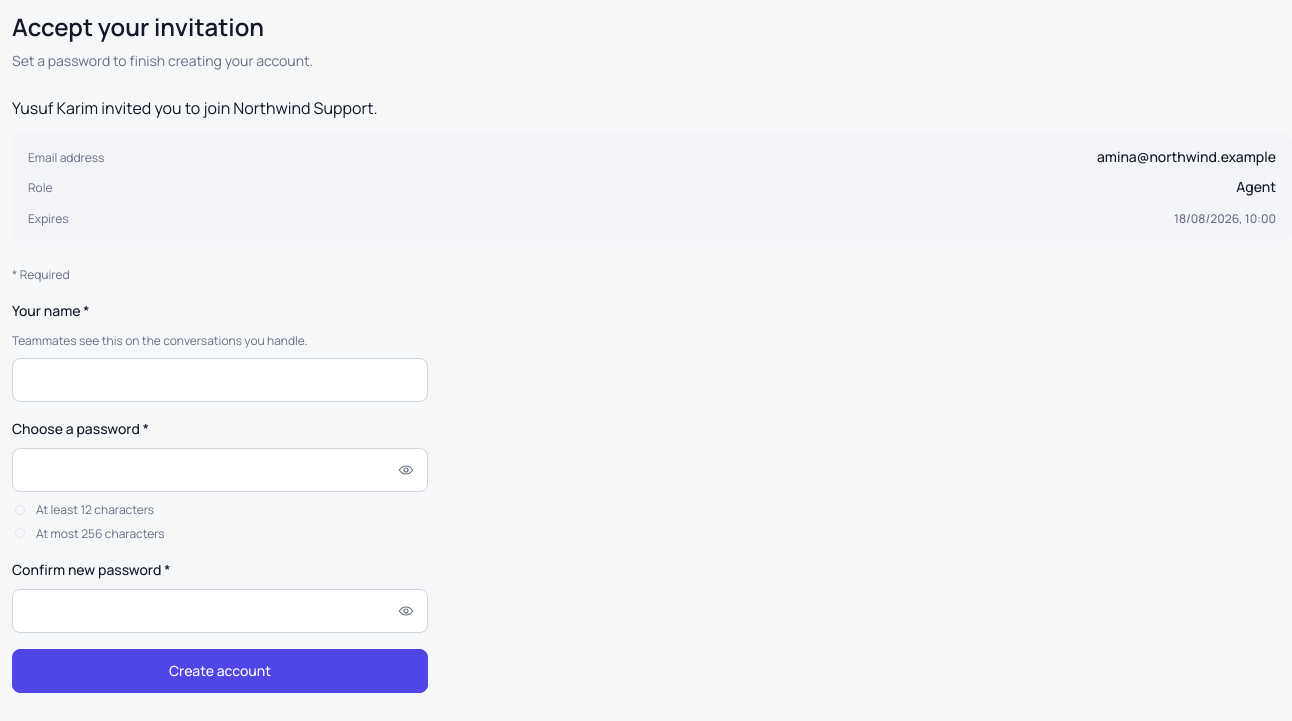
Scenario: InviteAcceptSection › swaps the form for the dead-link card when the invitation dies before submit
Check: the button "Create account" is shown, box [12,649,428,693]
Type "Amina Haddad" into the field labelled "Your name *".
click(220, 380); type("Amina Haddad")  # box [12,358,428,402]
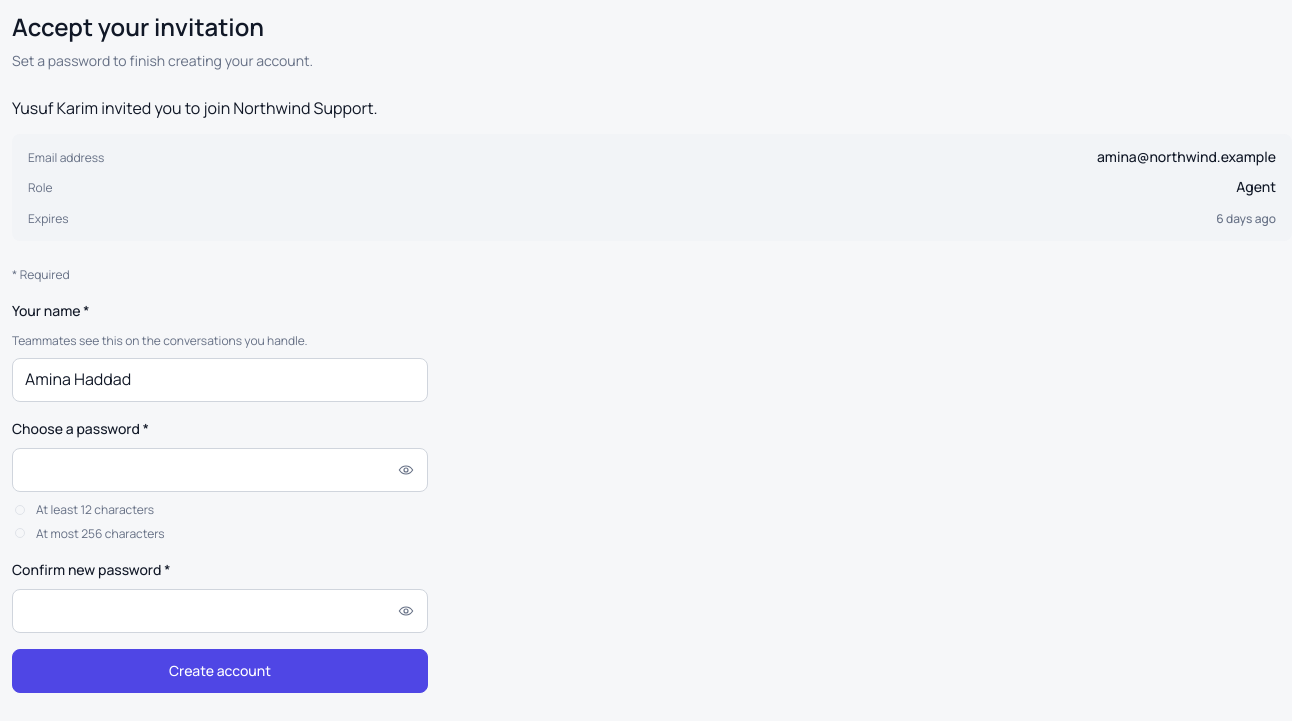
Type "a-perfectly-fine-passphrase" into the password field labelled "Choose a password *".
click(220, 470); type("a-perfectly-fine-passphrase")  # box [12,448,428,492]
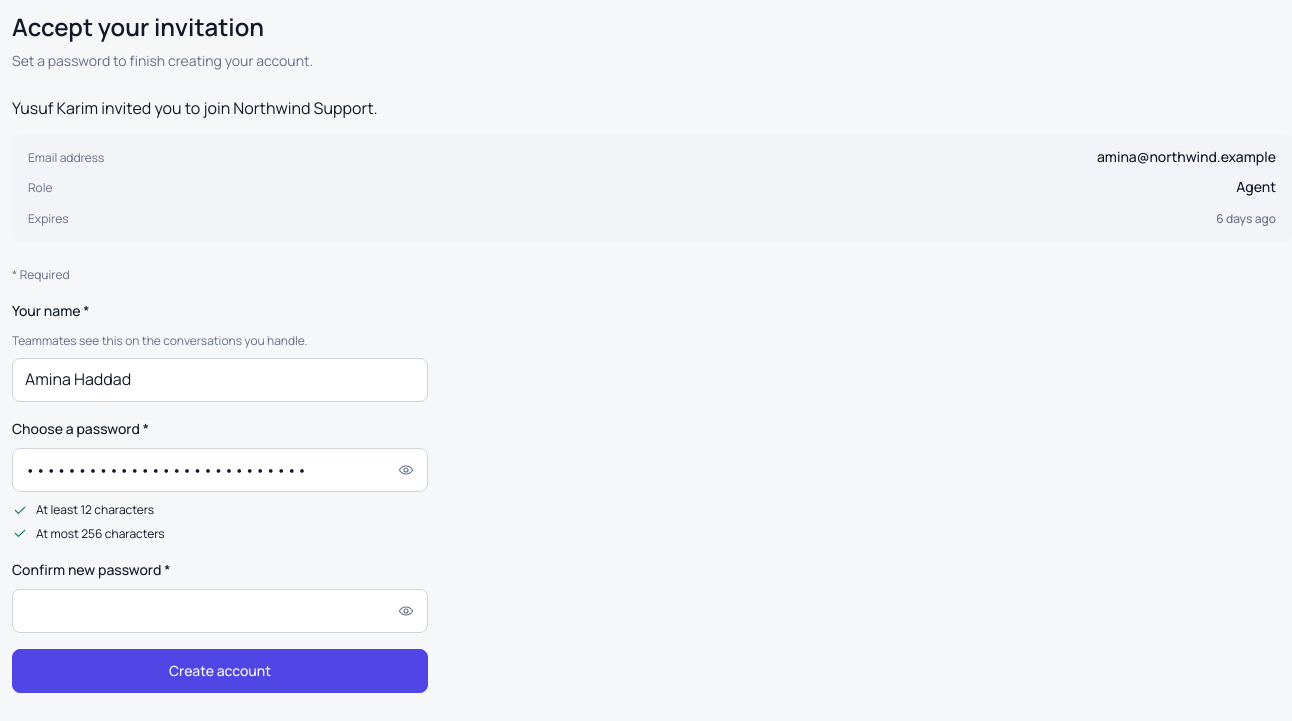
Type "a-perfectly-fine-passphrase" into the password field labelled "Confirm new password *".
click(220, 611); type("a-perfectly-fine-passphrase")  # box [12,589,428,633]
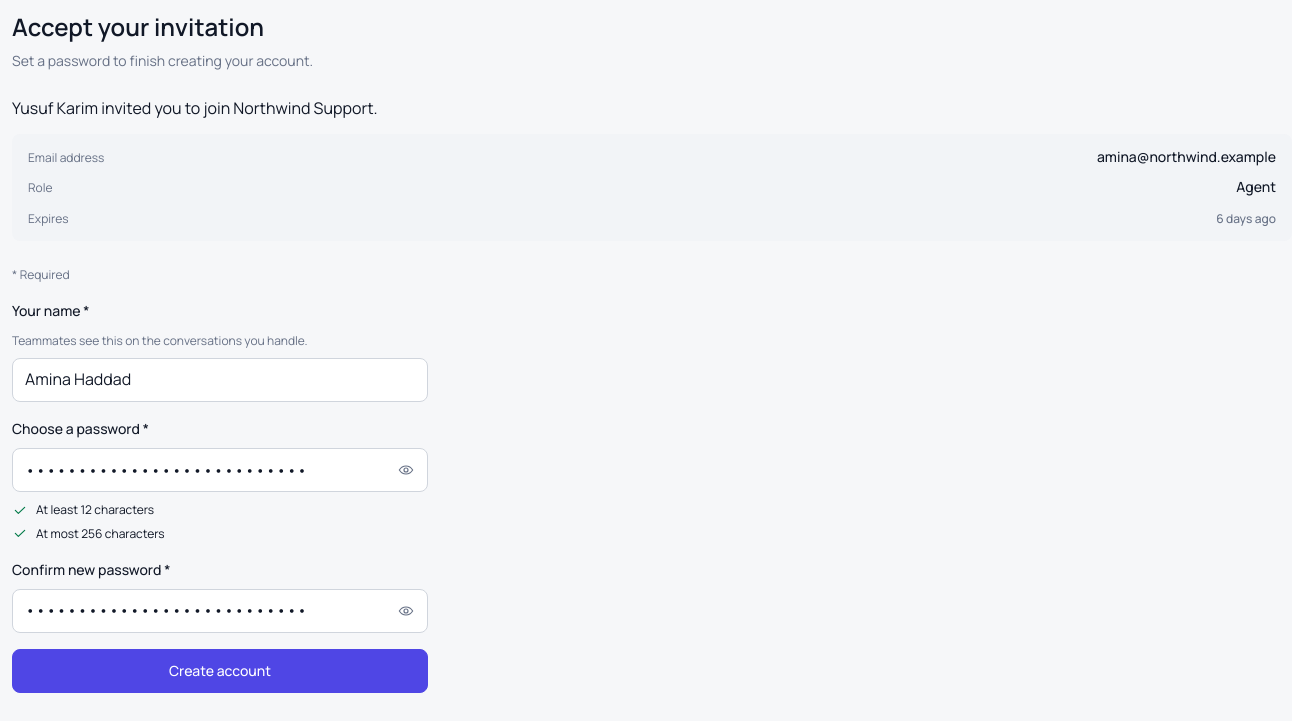
Click the button "Create account".
click(220, 671)  # box [12,649,428,693]
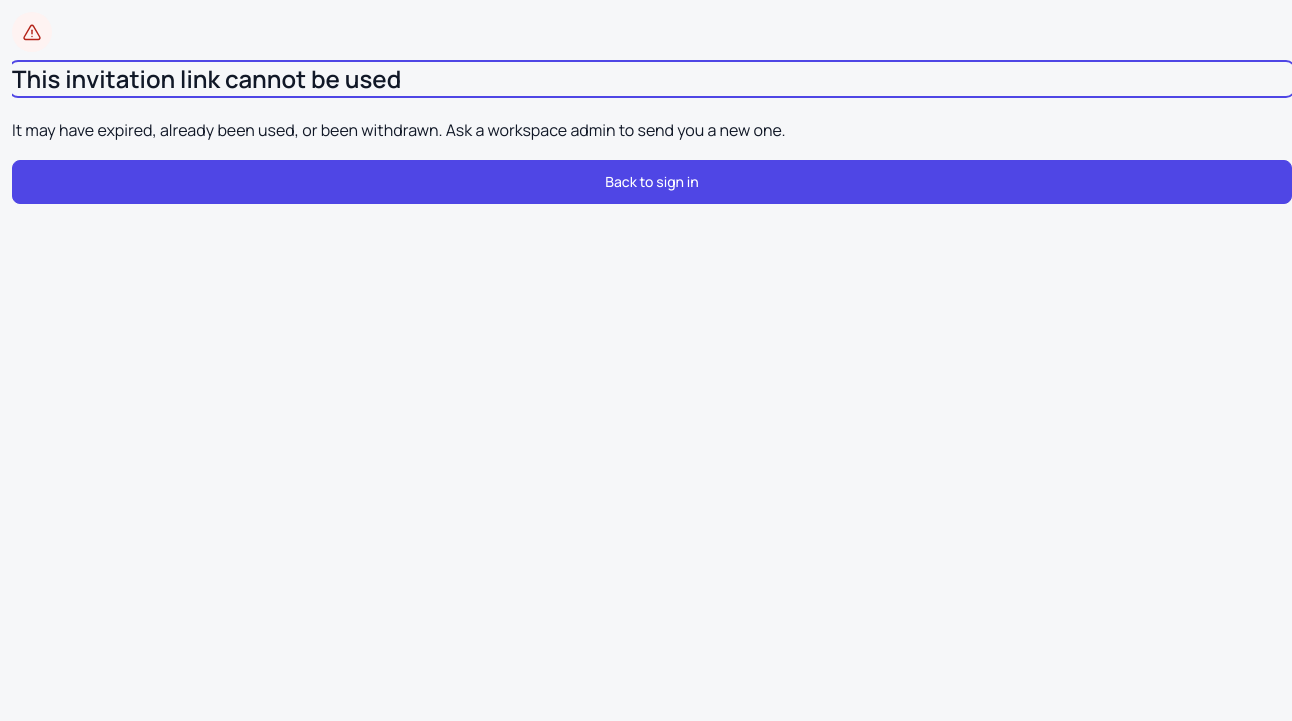
Check: the heading "This invitation link cannot be used" is shown, box [12,62,401,95]
Check: the button "Create account" is gone
